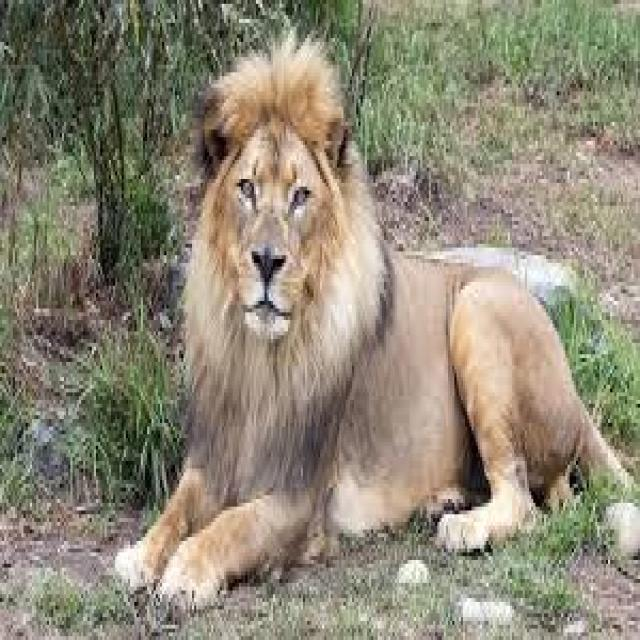Lion: (120, 42, 638, 605)
